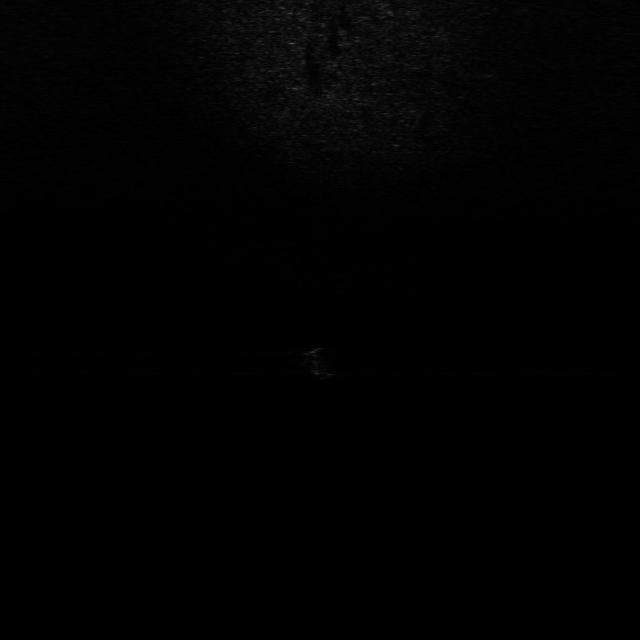human body: (301, 344, 337, 388)
